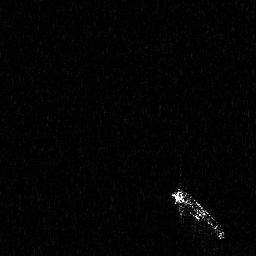ship: (168, 186, 227, 244)
